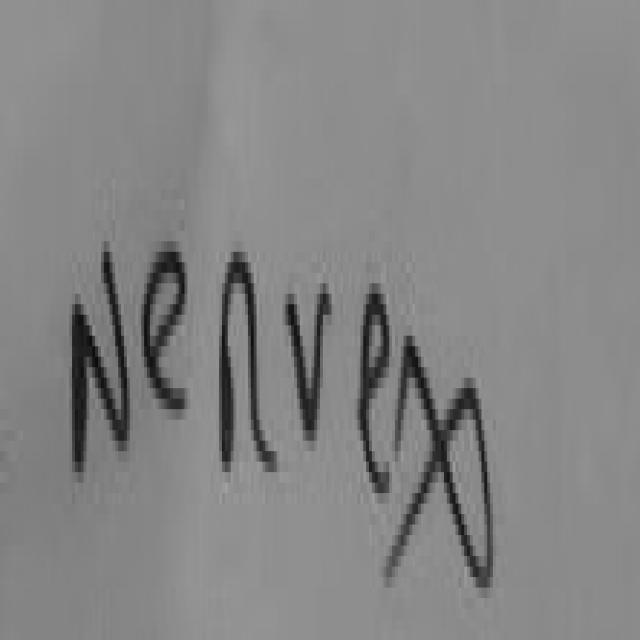N: (72, 252, 130, 472)
e: (144, 252, 187, 409), (360, 294, 392, 493)
r: (222, 252, 277, 472)
v: (288, 299, 332, 441)
x: (386, 336, 496, 588)
